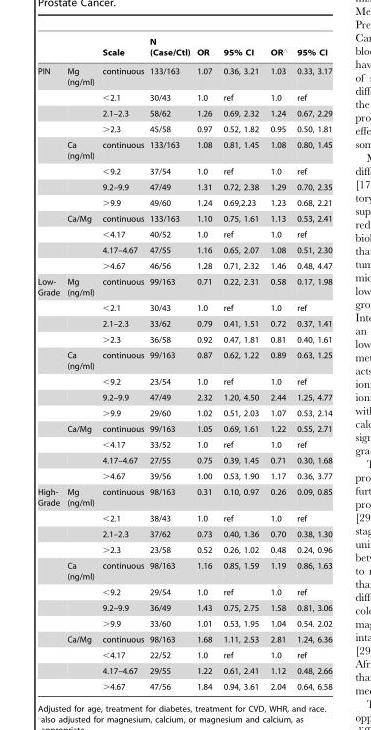table: (37, 37, 331, 690)
table column: (97, 37, 146, 690), (146, 37, 192, 690), (217, 37, 263, 690), (291, 37, 331, 690), (62, 37, 97, 690), (263, 37, 291, 690), (37, 37, 62, 690), (192, 37, 217, 690)
table column header: (37, 37, 331, 61)
table row: (37, 61, 331, 89), (37, 136, 331, 163), (37, 483, 331, 510), (37, 273, 331, 299), (37, 347, 331, 373), (37, 557, 331, 583), (37, 37, 331, 61), (37, 89, 331, 105), (37, 105, 331, 121), (37, 163, 331, 179), (37, 194, 331, 210), (37, 210, 331, 226), (37, 226, 331, 242), (37, 257, 331, 273), (37, 299, 331, 315), (37, 315, 331, 331), (37, 331, 331, 347), (37, 373, 331, 389), (37, 389, 331, 405), (37, 420, 331, 436), (37, 436, 331, 452), (37, 452, 331, 468), (37, 510, 331, 526), (37, 541, 331, 557), (37, 583, 331, 599), (37, 599, 331, 615), (37, 615, 331, 631), (37, 646, 331, 662), (37, 662, 331, 678), (37, 121, 331, 136), (37, 179, 331, 194), (37, 242, 331, 257), (37, 405, 331, 420), (37, 468, 331, 483), (37, 526, 331, 541), (37, 631, 331, 646), (37, 678, 331, 690)
table spanning cell: (37, 61, 62, 273), (37, 273, 62, 483), (37, 483, 62, 690)
